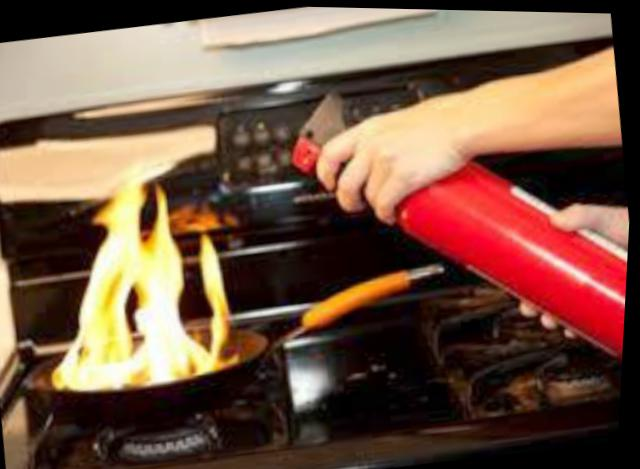fire: (13, 170, 259, 397)
